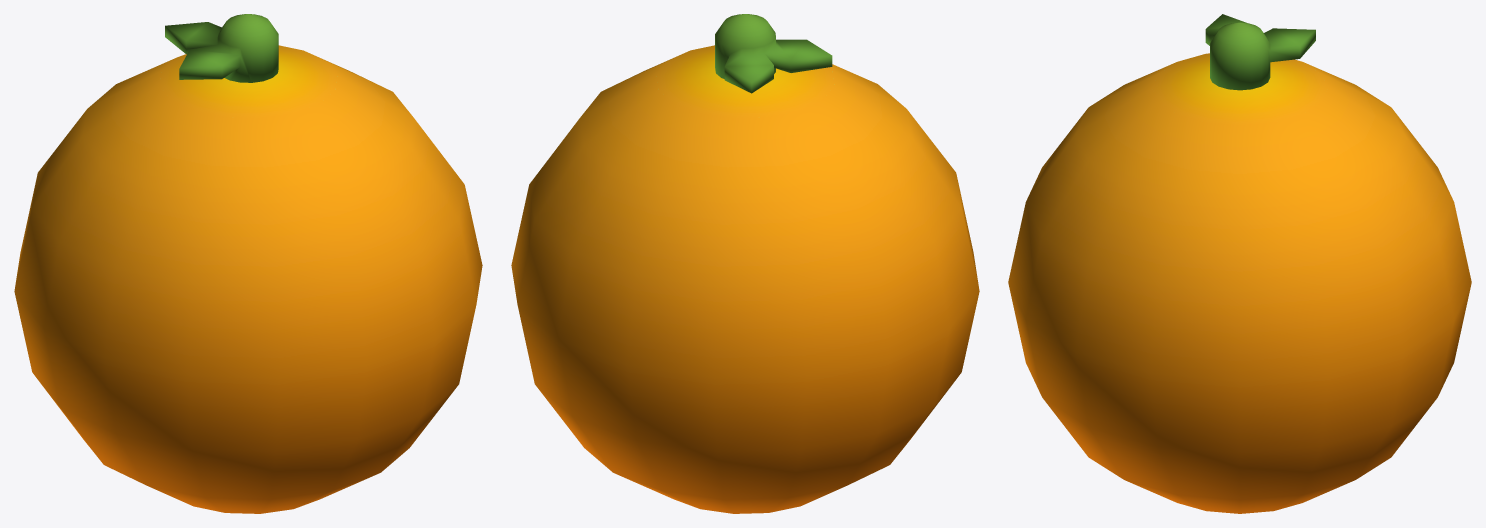
The model's file is orange.gltf.
3 views of the same model, side by side, from view 1: azimuth 30°, elevation 25°; view 2: azimuth 150°, elevation 25°; view 3: azimuth 270°, elevation 25° (orthographic).
Visible parts, largest first — view 1: Orange; view 2: Orange; view 3: Orange.
Boxes of the visible parts, bbox=[...] form: Orange: bbox=[14, 14, 482, 513]; Orange: bbox=[511, 14, 979, 513]; Orange: bbox=[1008, 14, 1471, 513].
Bounding box in the file's own units: 0.4472 × 0.5 × 0.4472.
1 material, 1 textured.
